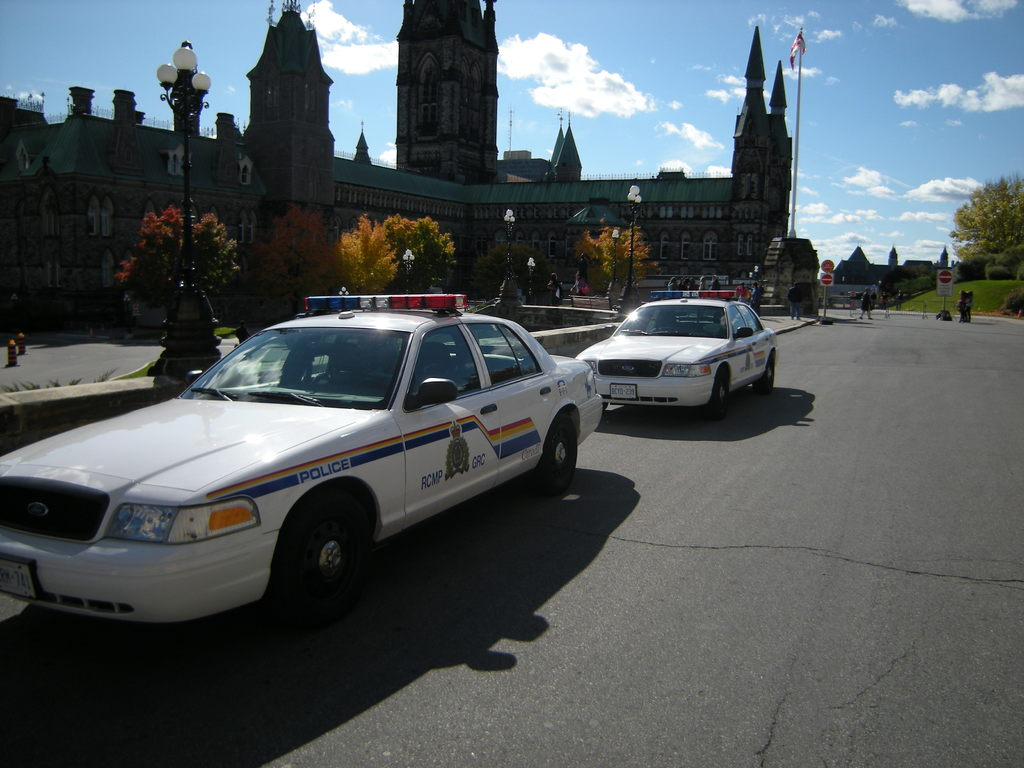Car: (6, 289, 599, 634), (576, 286, 774, 422)
